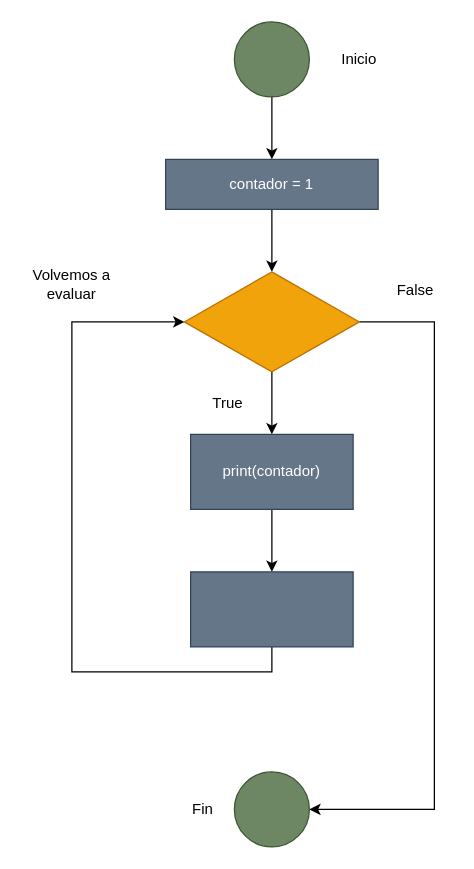
The diagram is 474 pixels wide and 869 high, and some of its shapes have lost their labels. The shapes that lost their labels are listed below. From the top down, each one's box as (x1, y1, x2, y2) in pixels, then its label:
(183, 271, 359, 372): contador <= 5
(189, 571, 353, 647): contador += 1
